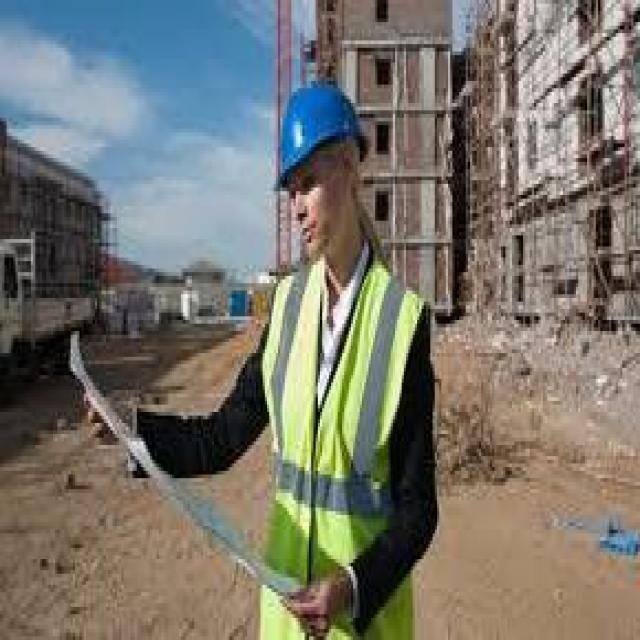Vest: (249, 268, 439, 627)
